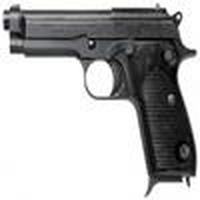gun: (2, 7, 200, 183)
